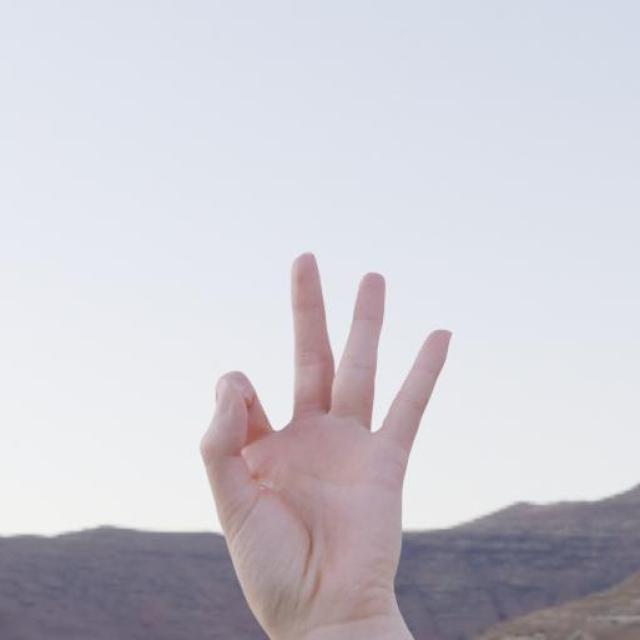F: (196, 246, 458, 634)
